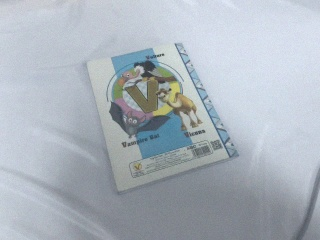book: (92, 41, 240, 197)
